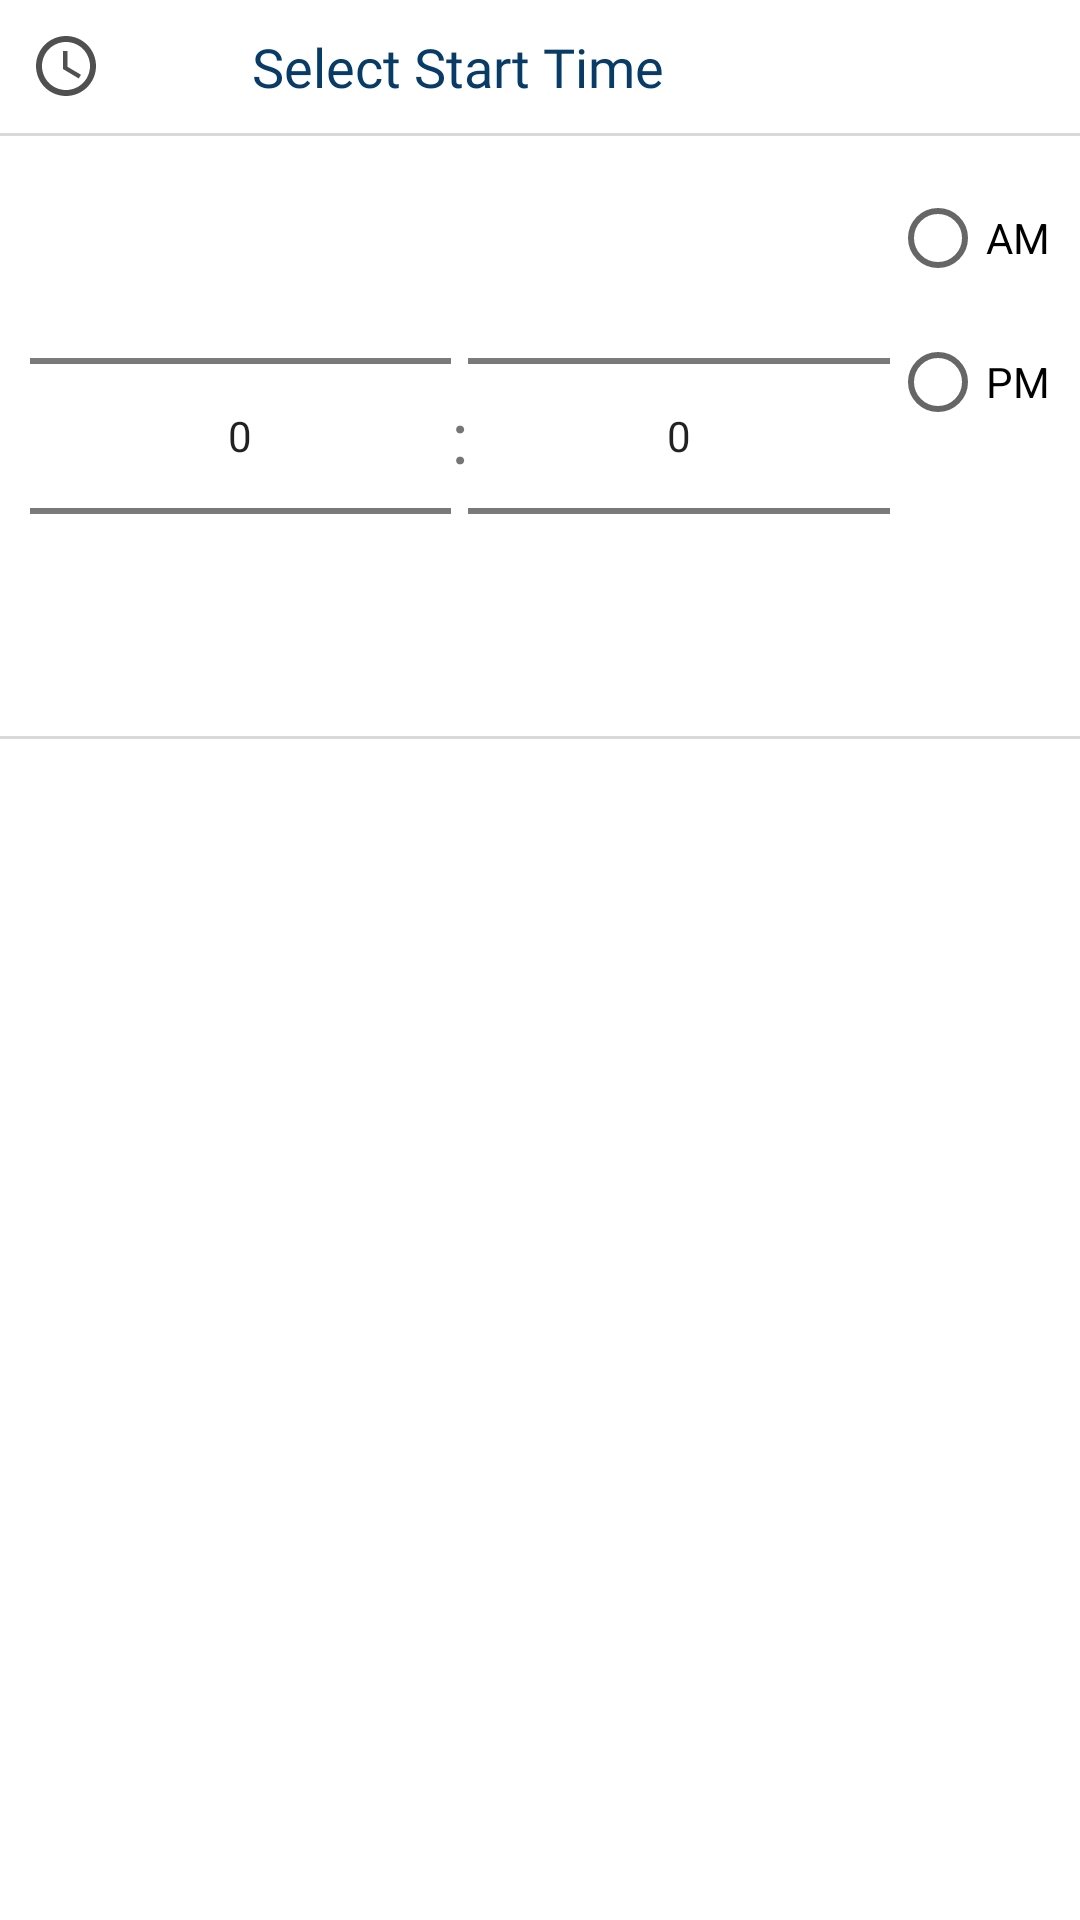

Locate icon controls on the screen. Image size 1080*1920, boxes as box(x1, y1, x2, y2).
clock: box(36, 36, 96, 96)
